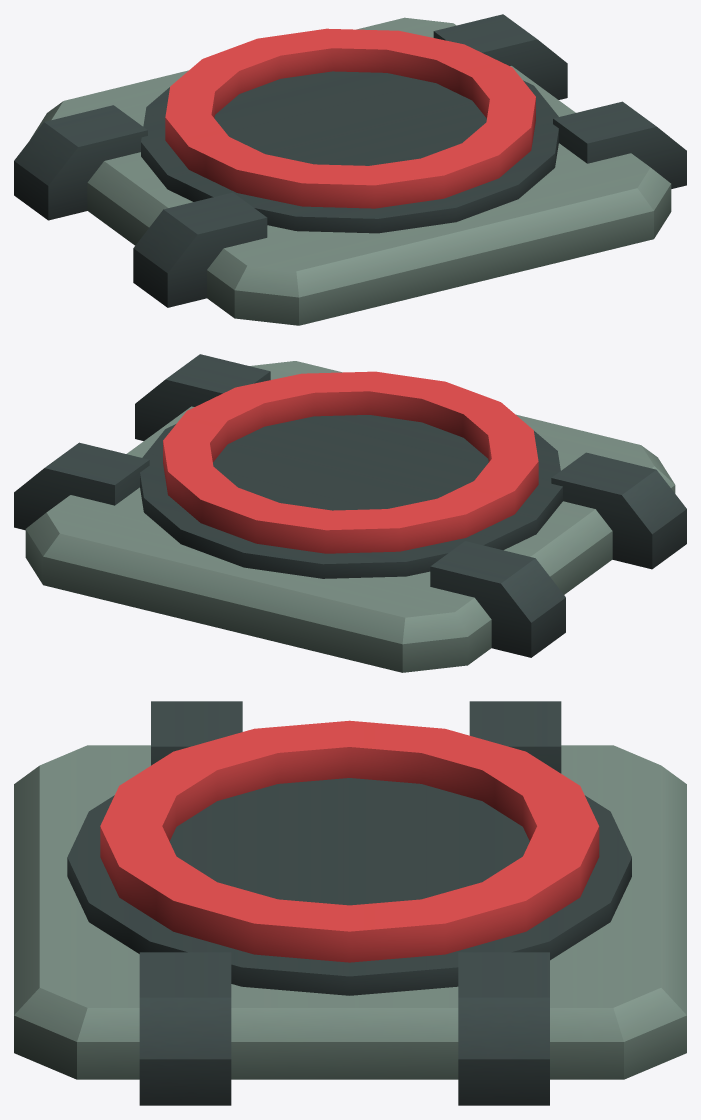
The model's file is switch.fbx.
The picture shows the model from 3 angles, top to bottom: view 1: azimuth 30°, elevation 25°; view 2: azimuth 150°, elevation 25°; view 3: azimuth 270°, elevation 25°; orthographic projection. The views are drawn at different scales.
Parts seen in each view (by area): view 1: switch; view 2: switch; view 3: switch.
Boxes of the visible parts, x1,y1,x2,y2 form: switch: (14,14,686,325); switch: (14,354,686,672); switch: (14,701,686,1105).
Bounding box in the file's own units: 253 × 39.23 × 215.
